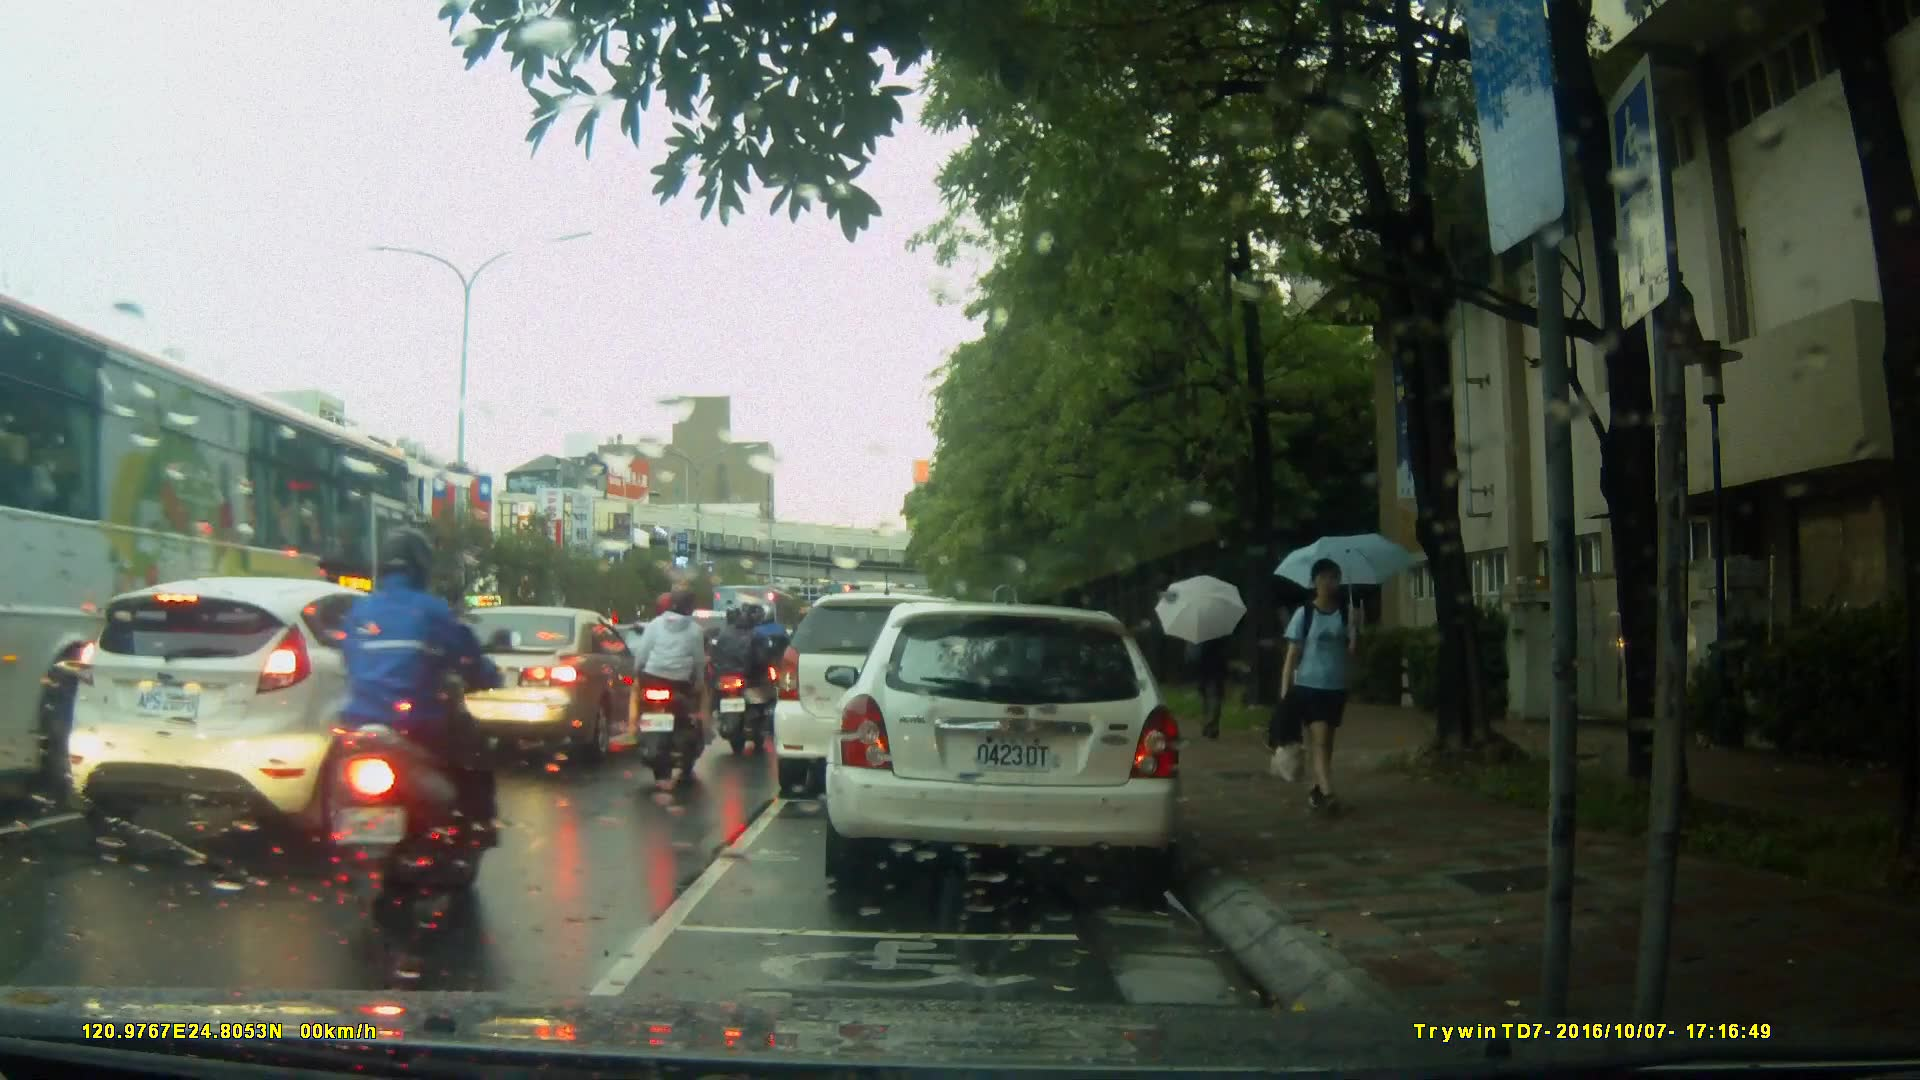pedestrian: (1259, 551, 1369, 822), (1182, 603, 1232, 736)
rider: (302, 526, 516, 923), (637, 590, 716, 792), (741, 600, 798, 742), (711, 598, 759, 759)
vehicle: (1, 290, 427, 789), (66, 574, 477, 867), (835, 594, 1194, 898), (776, 590, 1026, 784), (393, 603, 648, 762), (604, 619, 728, 714)
